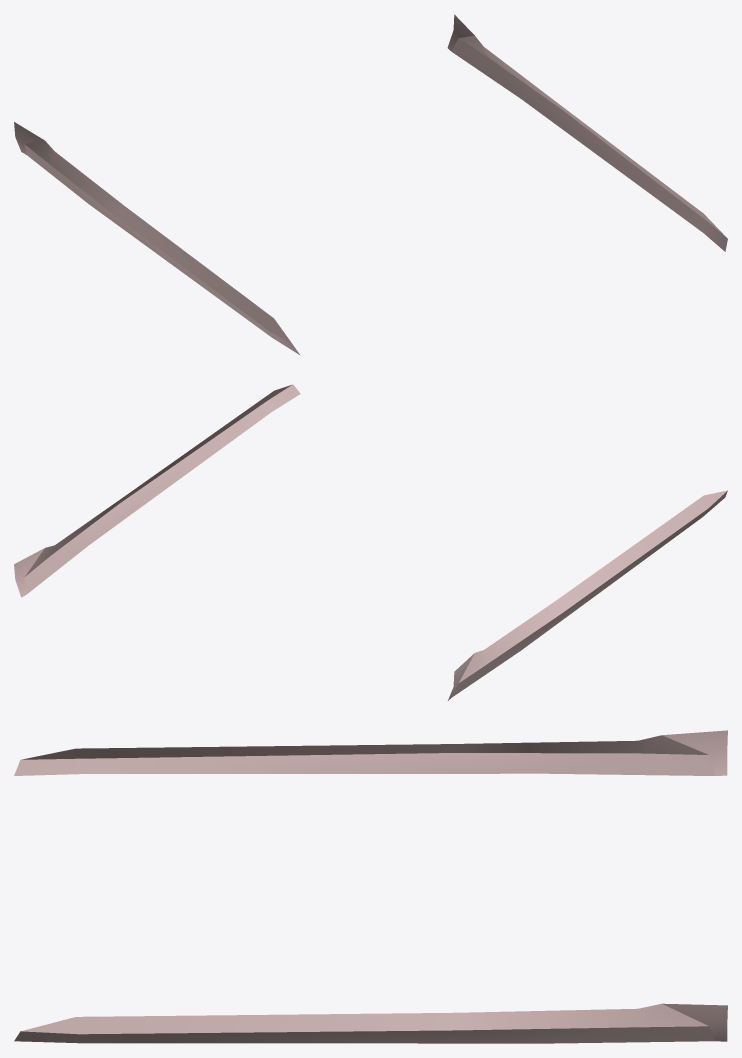
File: Classic_14_SidePanel_1.fbx
3 renders of one model, top to bottom at view 1: azimuth 30°, elevation 25°; view 2: azimuth 150°, elevation 25°; view 3: azimuth 270°, elevation 25°, orthographic. The views are drawn at different scales.
Parts seen in each view (by area): view 1: Classic_14_SidePanel_1; view 2: Classic_14_SidePanel_1; view 3: Classic_14_SidePanel_1.
Part boxes in pixels (box(x1,y1,x2,y2)): Classic_14_SidePanel_1: box(14, 14, 727, 355); Classic_14_SidePanel_1: box(14, 384, 727, 700); Classic_14_SidePanel_1: box(14, 730, 727, 1043).
Size of the model in its own units: 203 by 13.89 by 220.
